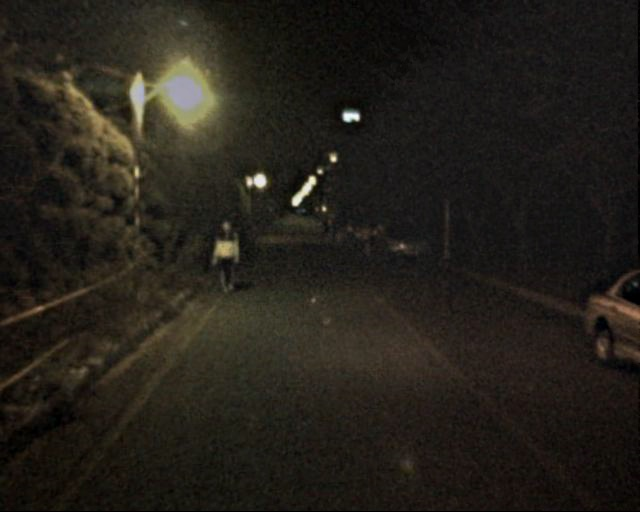person: (211, 219, 242, 294), (359, 222, 376, 264), (321, 221, 345, 247)
